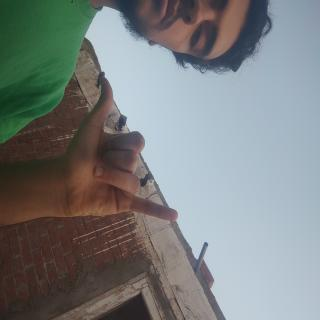YA: (52, 181, 188, 320)
